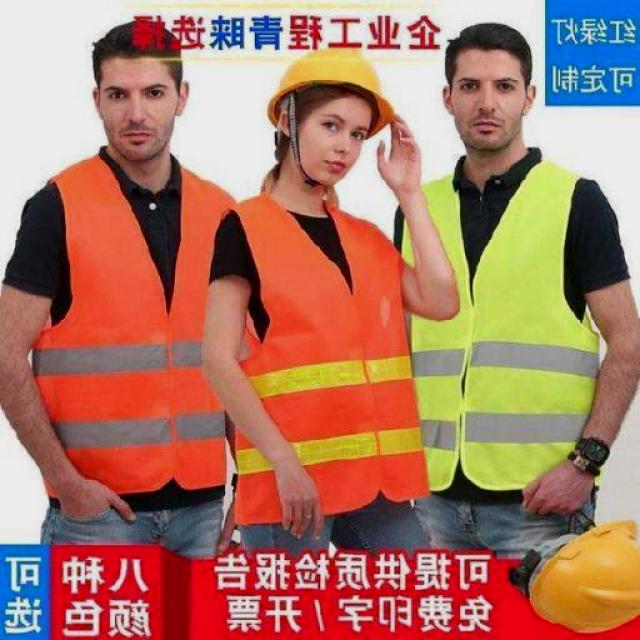face_nomask: (95, 73, 177, 152), (446, 70, 522, 146), (308, 106, 372, 180)
hand_noglove: (264, 454, 332, 544), (512, 457, 598, 517), (368, 114, 426, 188)
head_helmet: (264, 51, 400, 134)
head_nohelmet: (440, 19, 536, 80), (90, 20, 200, 70)
person: (390, 16, 640, 560), (0, 18, 250, 552), (211, 44, 459, 550)
vest: (22, 148, 238, 512), (406, 146, 600, 508), (217, 198, 404, 516)
